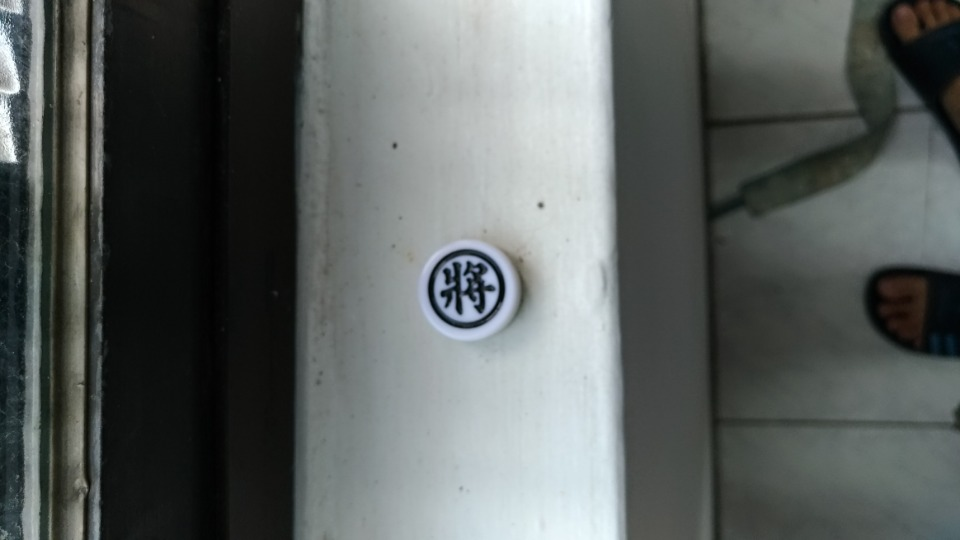b-king: (412, 231, 558, 351)
